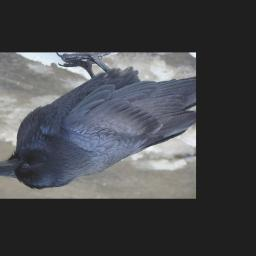Crow: (0, 53, 195, 190)
